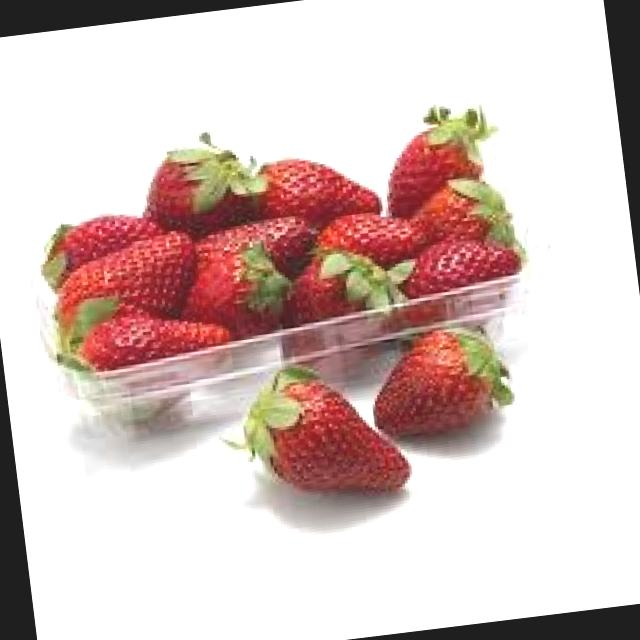strawberry: (225, 338, 425, 536), (364, 317, 512, 443), (136, 128, 272, 242)
